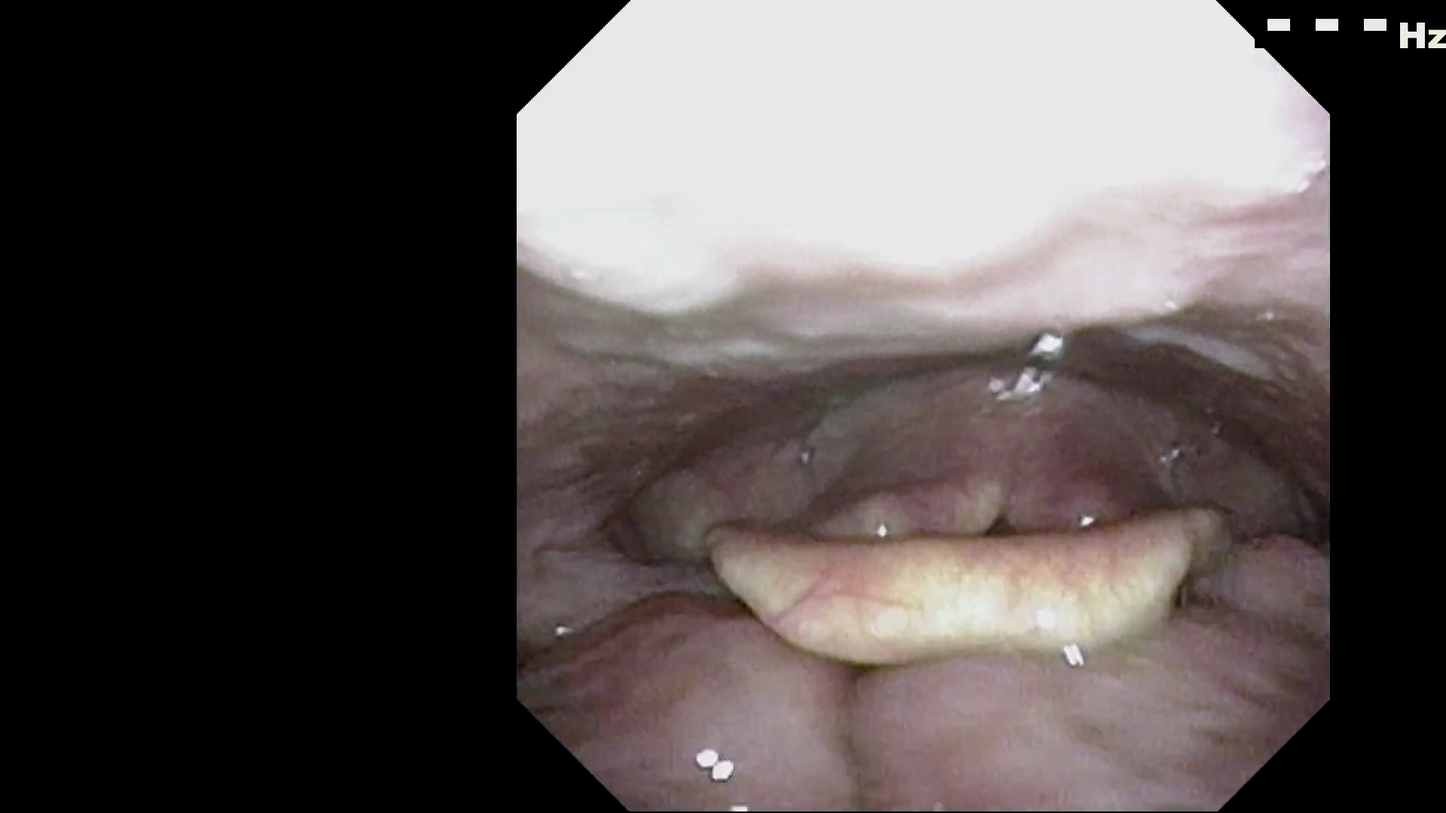epiglottis: (690, 514, 1232, 654)
